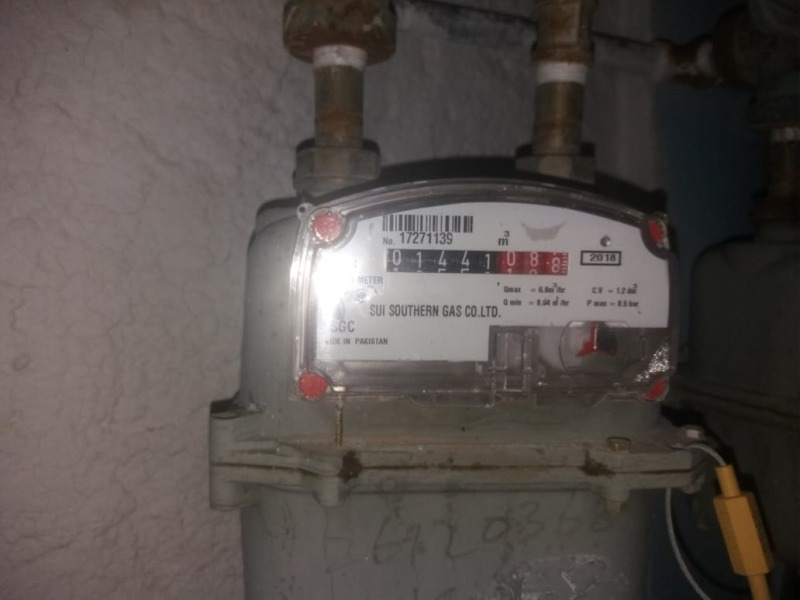ssgc: (382, 244, 572, 278)
